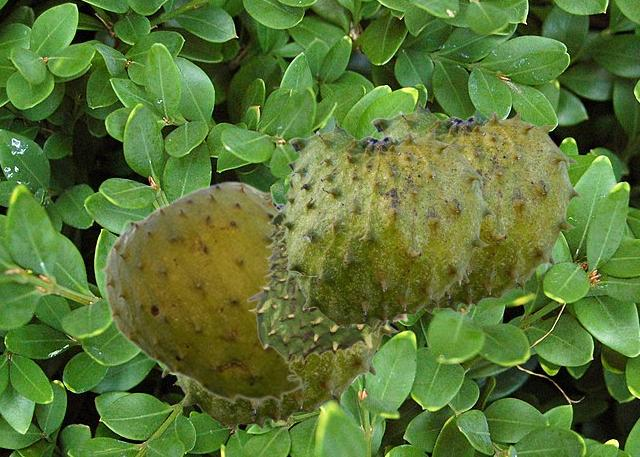guyabano: (161, 203, 401, 429), (99, 180, 306, 406), (276, 120, 494, 328), (370, 100, 581, 312), (246, 204, 408, 363)
